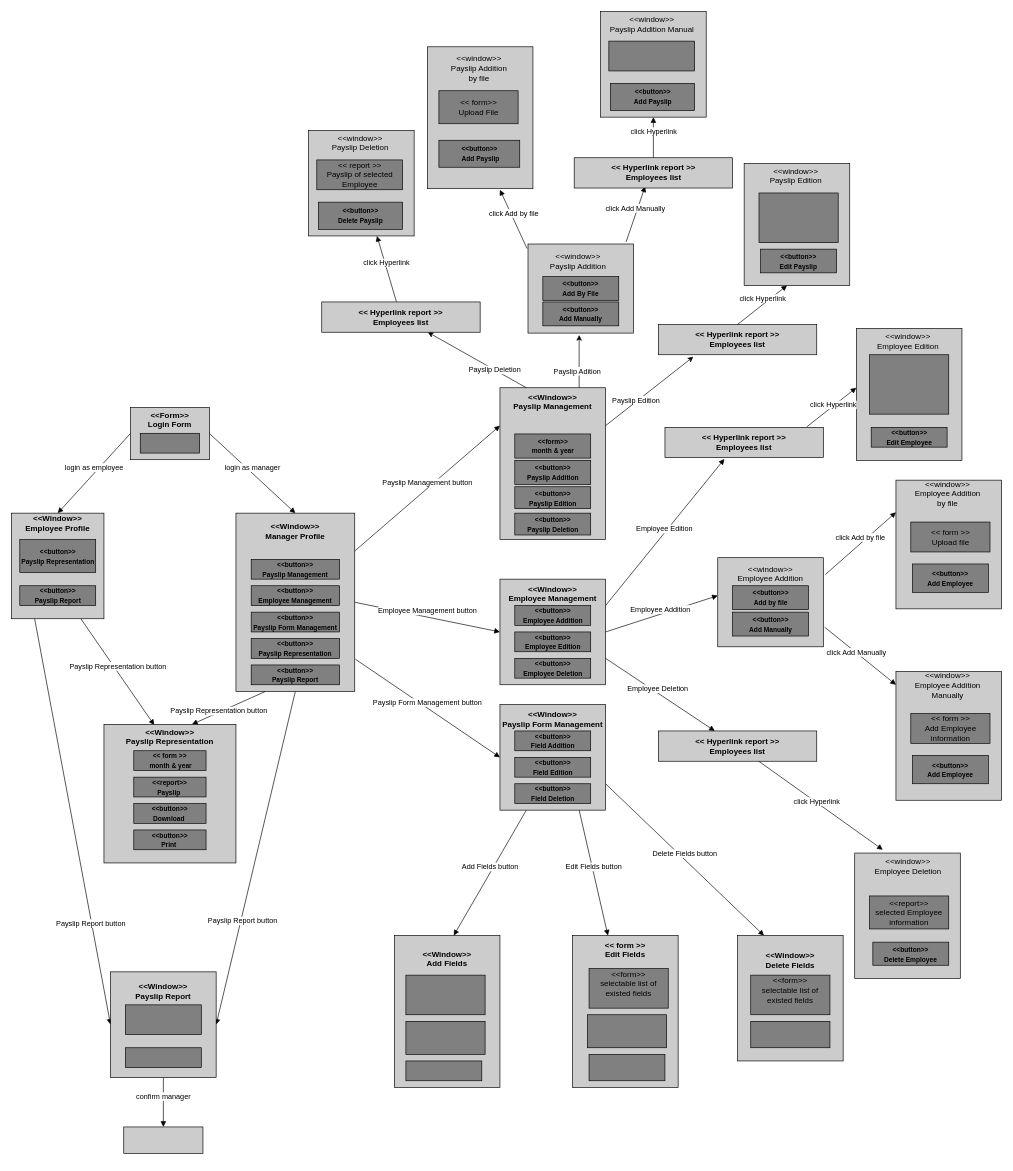
Image size: 1013x1171. Some labels were removed from this diagram. Each missing label, with the centre of its shape:
<< button >> Edit Field: point (626, 1067)
<< button>> Add Field: point (443, 1070)
<< form >> Payslip of selected Employee: point (651, 55)
<<button>> Confirm: point (163, 1057)
<<button>> Delete selected Field: point (790, 1034)
<<button>> Login: point (170, 443)
<<form>> edit employee information [last data shows as default]: point (909, 384)
<<form>> edit payslip for selected employee [last data shows as default]: point (798, 217)
<<form>> Edit selected Field name: point (627, 1031)
<<form>> months & fields form: point (163, 1019)
<<form>> name & data type: point (445, 1037)
<<Form>> Report Form: point (163, 1139)
<<report>> list of existed fields: point (445, 994)
